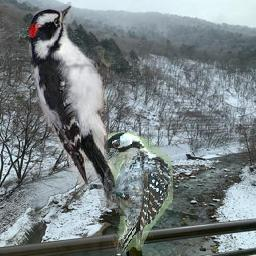Woodpecker: (29, 3, 123, 208), (105, 132, 174, 252)
